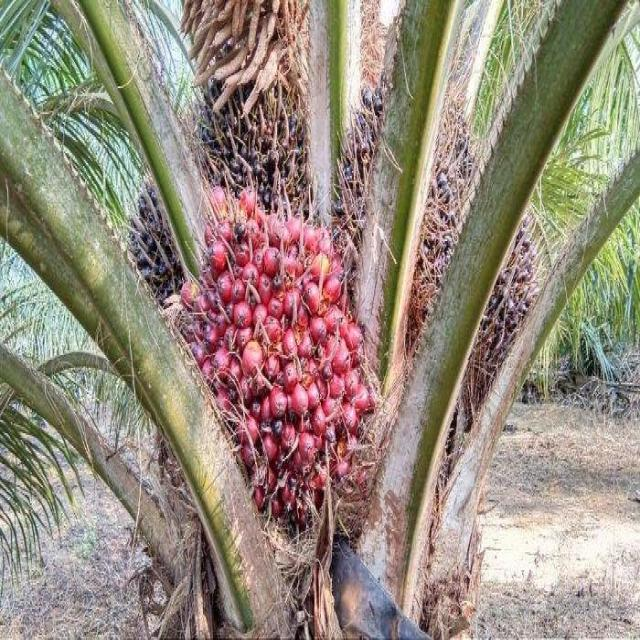FFB: (175, 205, 381, 524)
